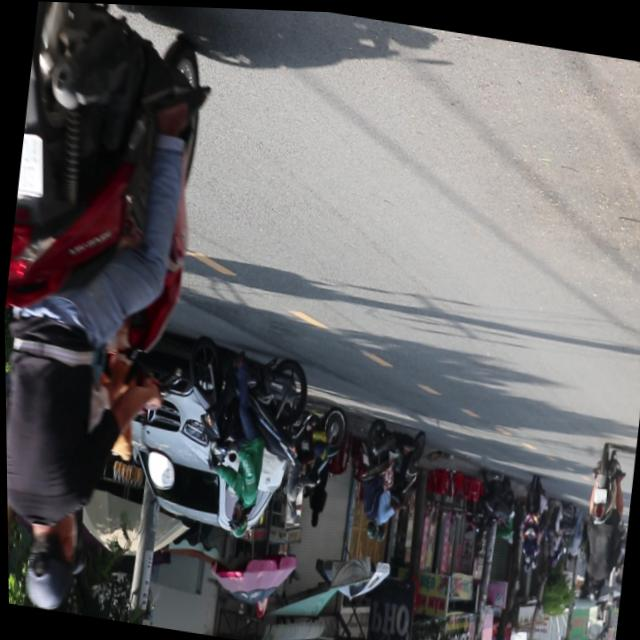licenseplate: (0, 0, 230, 627)
motorcyclist: (14, 507, 84, 613)
nohelmet: (15, 136, 46, 197)
